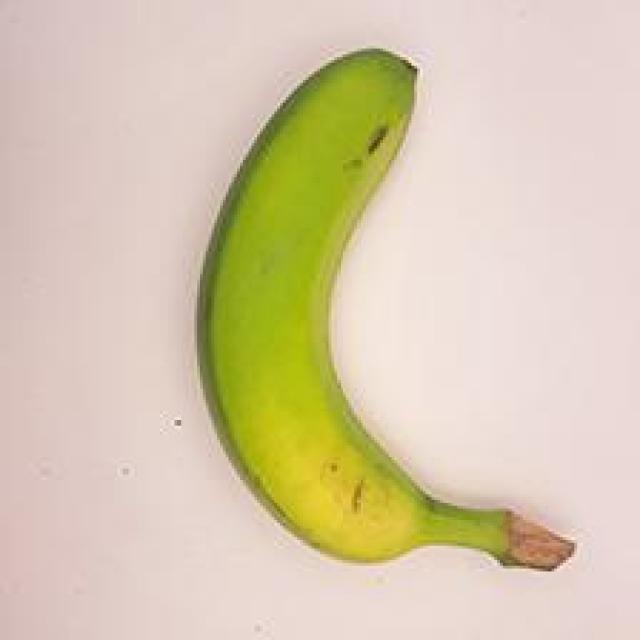Unripe: (182, 39, 604, 604)
